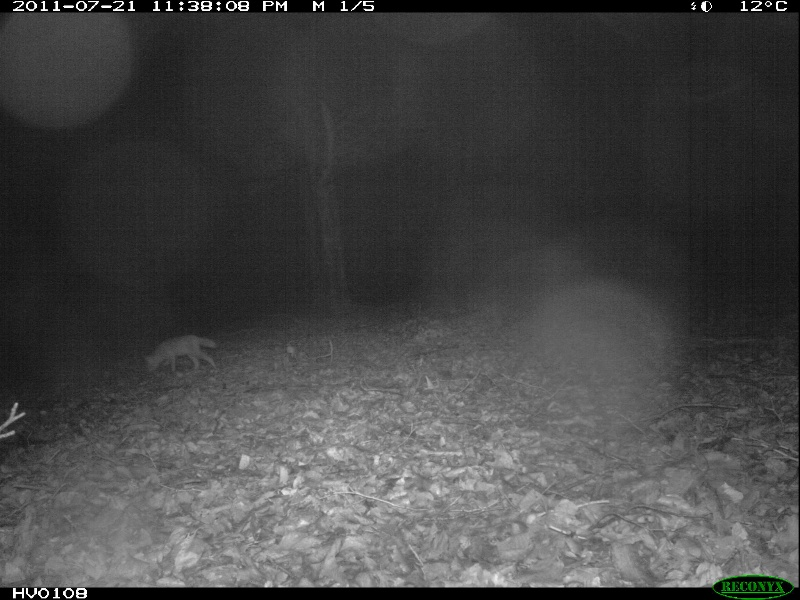fox: (140, 332, 219, 378)
